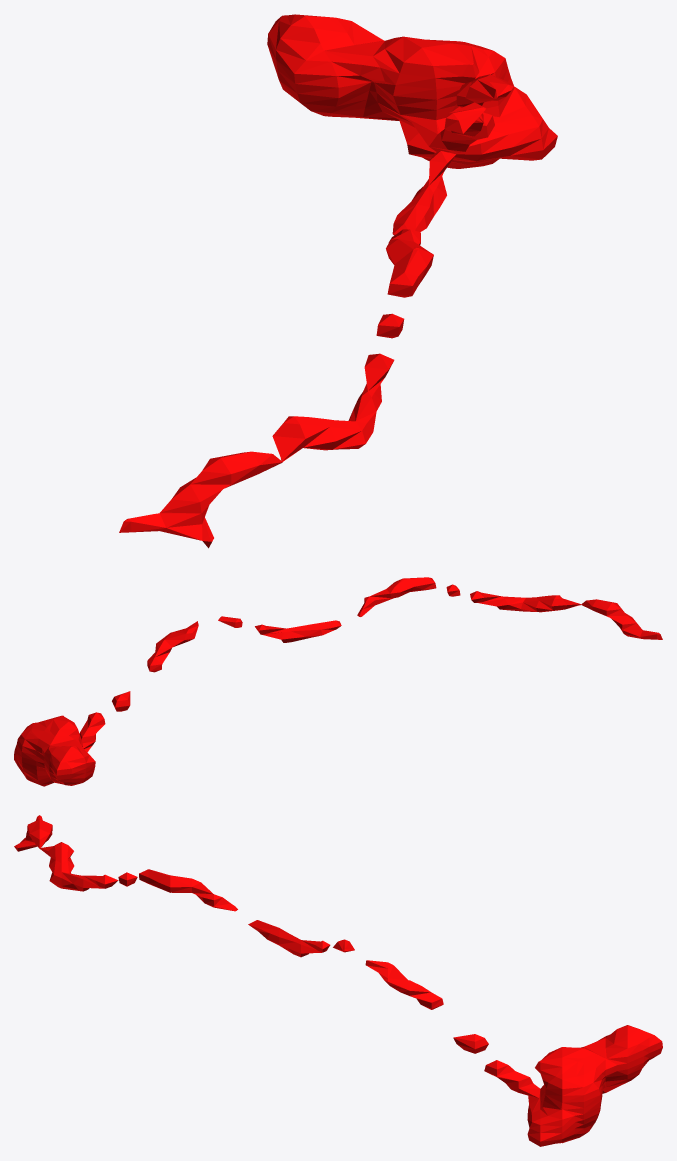
The model's file is rseP_coarse.dae.
3 views of the same model, one above another, from view 1: azimuth 30°, elevation 25°; view 2: azimuth 150°, elevation 25°; view 3: azimuth 270°, elevation 25° (orthographic). The views are drawn at different scales.
Parts seen in each view (by area): view 1: rseP; view 2: rseP; view 3: rseP.
Part boxes in pixels (x1,y1,x2,y2): rseP: (119, 14, 557, 548); rseP: (14, 577, 662, 786); rseP: (14, 815, 662, 1146).
Size of the model in its own units: 300 by 85.84 by 331.
